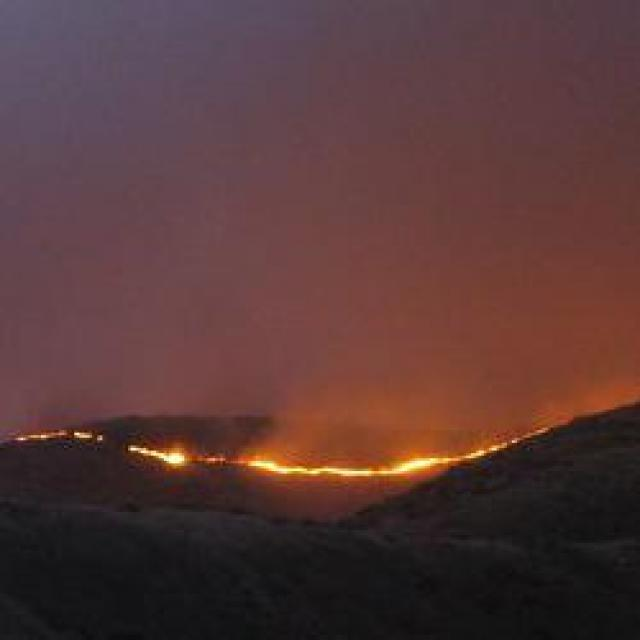fire: (128, 444, 196, 476), (245, 458, 327, 477), (387, 454, 449, 475)
smoke: (282, 389, 316, 442)
